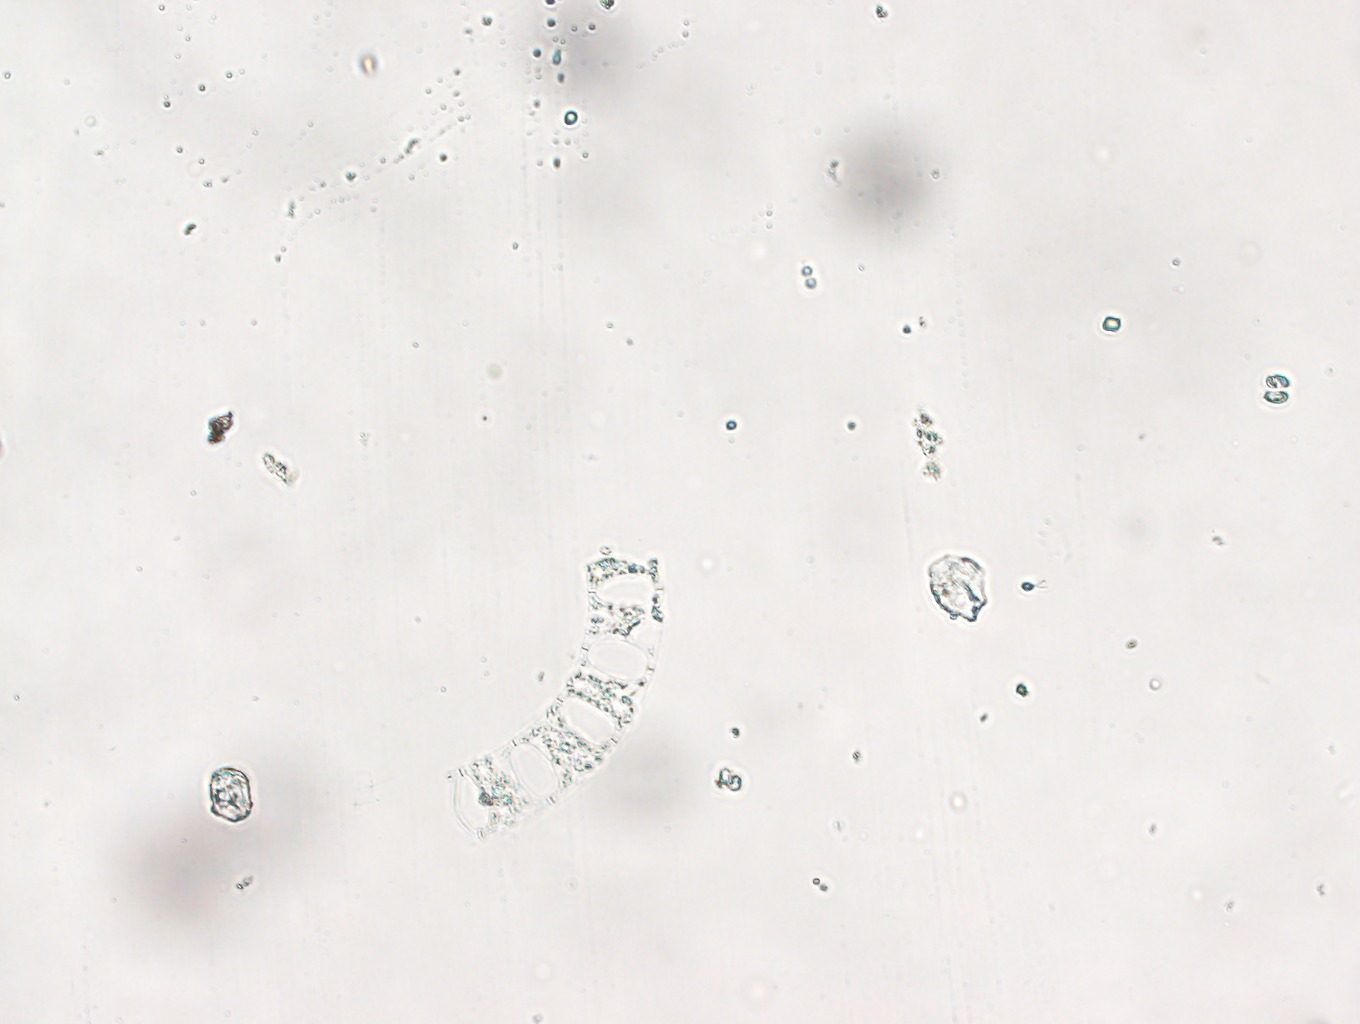eucampia: (423, 525, 669, 847)
